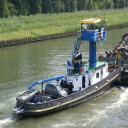tugboat: (13, 17, 124, 122)
